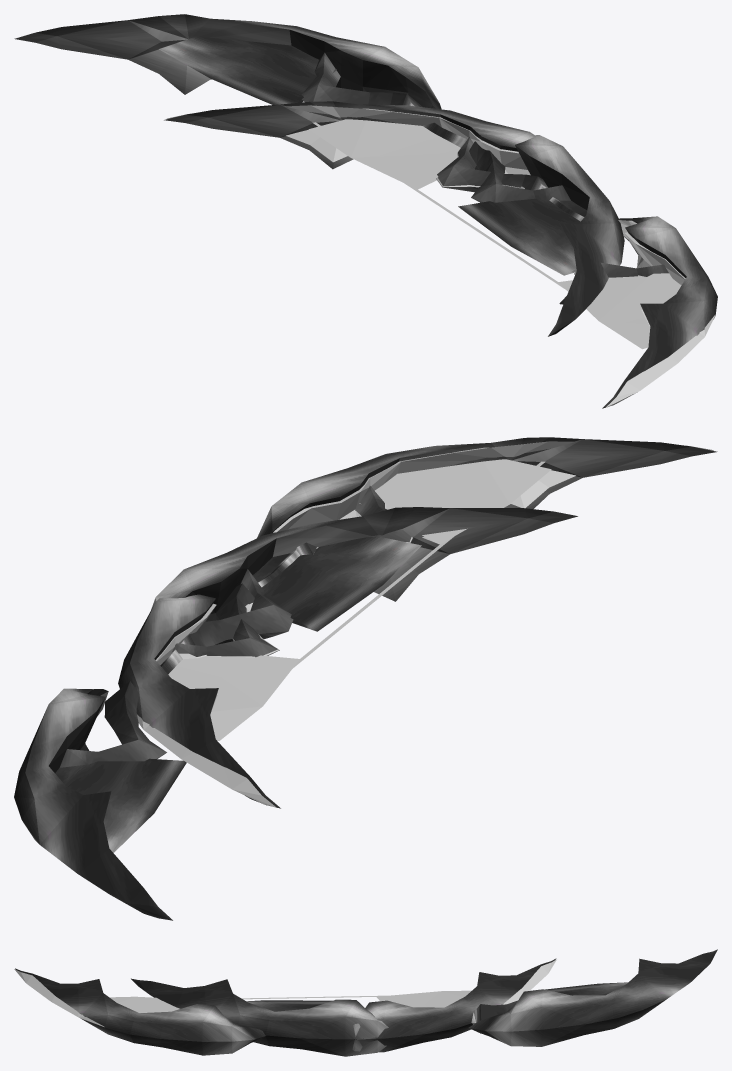
The picture shows the model from 3 angles, top to bottom: view 1: azimuth 30°, elevation 25°; view 2: azimuth 150°, elevation 25°; view 3: azimuth 270°, elevation 25°; orthographic projection. The views are drawn at different scales.
Parts seen in each view (by area): view 1: wuqi_007, 3007_0, wenli; view 2: wuqi_007, wenli, 3007_0; view 3: wuqi_007, wenli, 3007_0.
Boxes of the visible parts, left/top/right/bottom form: wuqi_007: left=14, top=14, right=624, bottom=336; 3007_0: left=167, top=105, right=715, bottom=407; wenli: left=164, top=101, right=717, bottom=408; wuqi_007: left=14, top=507, right=577, bottom=920; wenli: left=118, top=437, right=717, bottom=808; 3007_0: left=137, top=441, right=713, bottom=807; wuqi_007: left=131, top=949, right=717, bottom=1056; wenli: left=15, top=958, right=556, bottom=1055; 3007_0: left=14, top=959, right=556, bottom=1026.
Size of the model in its own units: 0.9887 by 0.2713 by 3.17.
